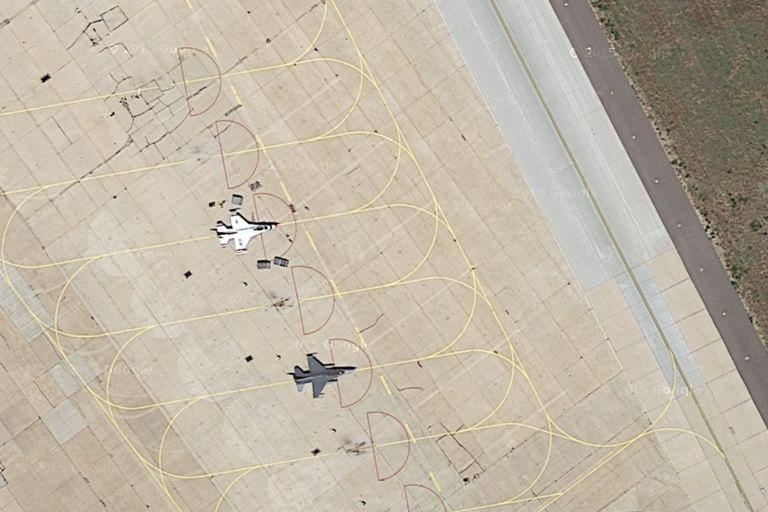F-16: (211, 208, 283, 253), (286, 354, 356, 398)
